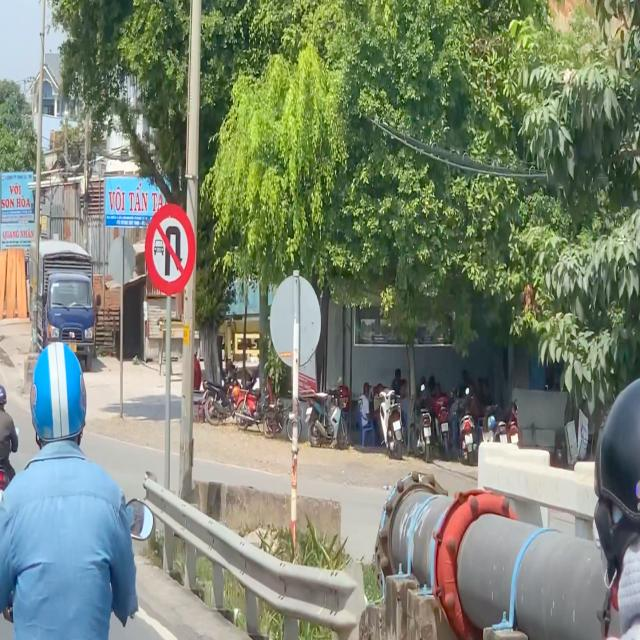Cam quay dau xe: (140, 202, 198, 298)
